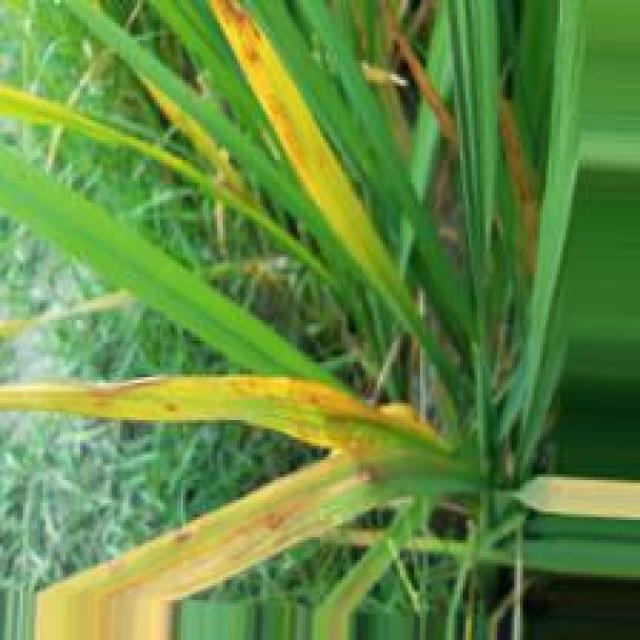Bacterial_Leaf_Blight: (104, 476, 369, 602), (186, 421, 372, 528), (174, 377, 385, 420), (46, 532, 178, 593), (244, 61, 310, 182), (361, 462, 384, 482), (247, 46, 265, 66), (268, 516, 285, 531), (177, 531, 196, 543)
